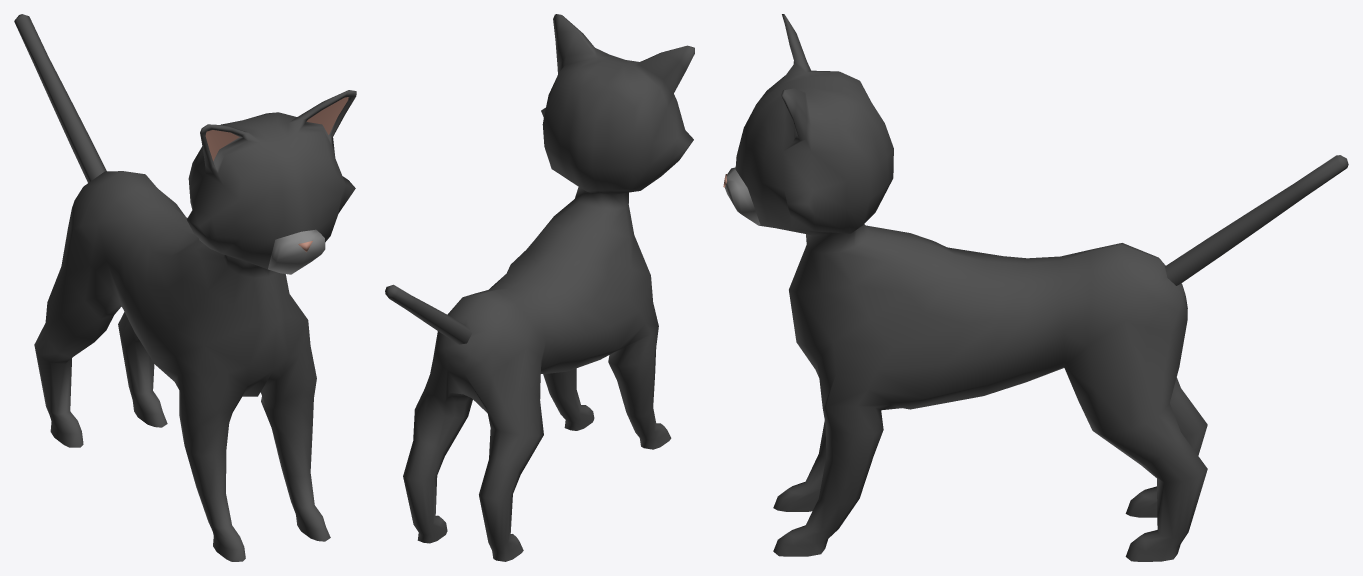
File: GatoNormar.fbx
3 views of the same model, side by side, from view 1: azimuth 30°, elevation 25°; view 2: azimuth 150°, elevation 25°; view 3: azimuth 270°, elevation 25° (orthographic). The views are drawn at different scales.
Parts seen in each view (by area): view 1: Gato; view 2: Gato; view 3: Gato.
Boxes of the visible parts, x1=… form: Gato: x1=14, y1=14, x2=356, y2=561; Gato: x1=385, y1=14, x2=694, y2=561; Gato: x1=723, y1=14, x2=1348, y2=561.
Size of the model in its own units: 12.39 by 32.57 by 38.25.
